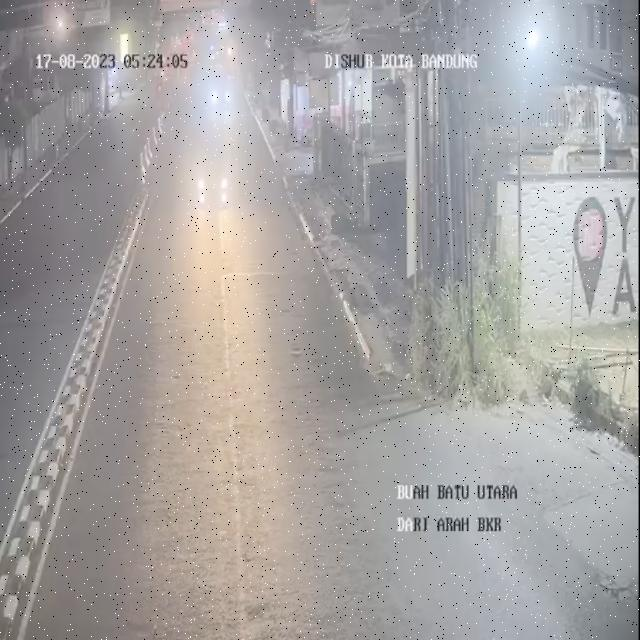cars: (184, 126, 238, 224), (208, 67, 234, 121)
